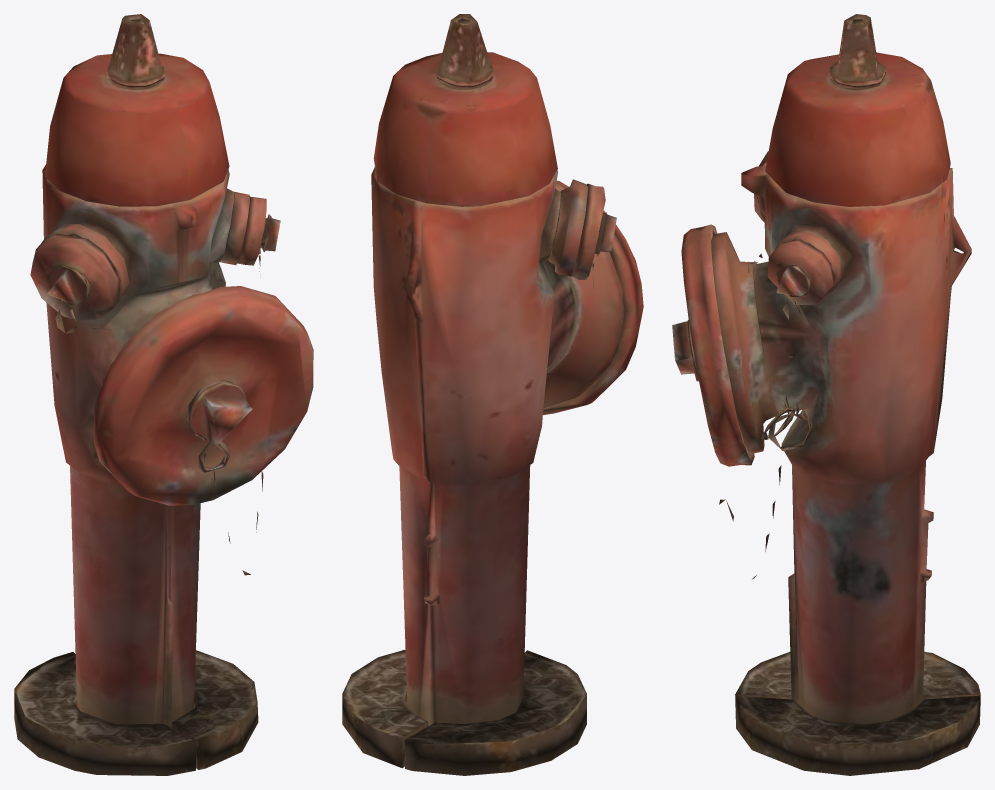
File: ph_fire_hydrant.glb
3 views of the same model, side by side, from view 1: azimuth 30°, elevation 25°; view 2: azimuth 150°, elevation 25°; view 3: azimuth 270°, elevation 25° (orthographic).
Parts seen in each view (by area): view 1: fire_hydrant_aged; view 2: fire_hydrant_aged; view 3: fire_hydrant_aged.
Boxes of the visible parts, x1,y1,x2,y2 form: fire_hydrant_aged: (14,14,313,775); fire_hydrant_aged: (342,14,643,775); fire_hydrant_aged: (672,14,980,775).
Bounding box in the file's own units: 0.2728 × 0.7992 × 0.3173.
1 material, 1 textured.
